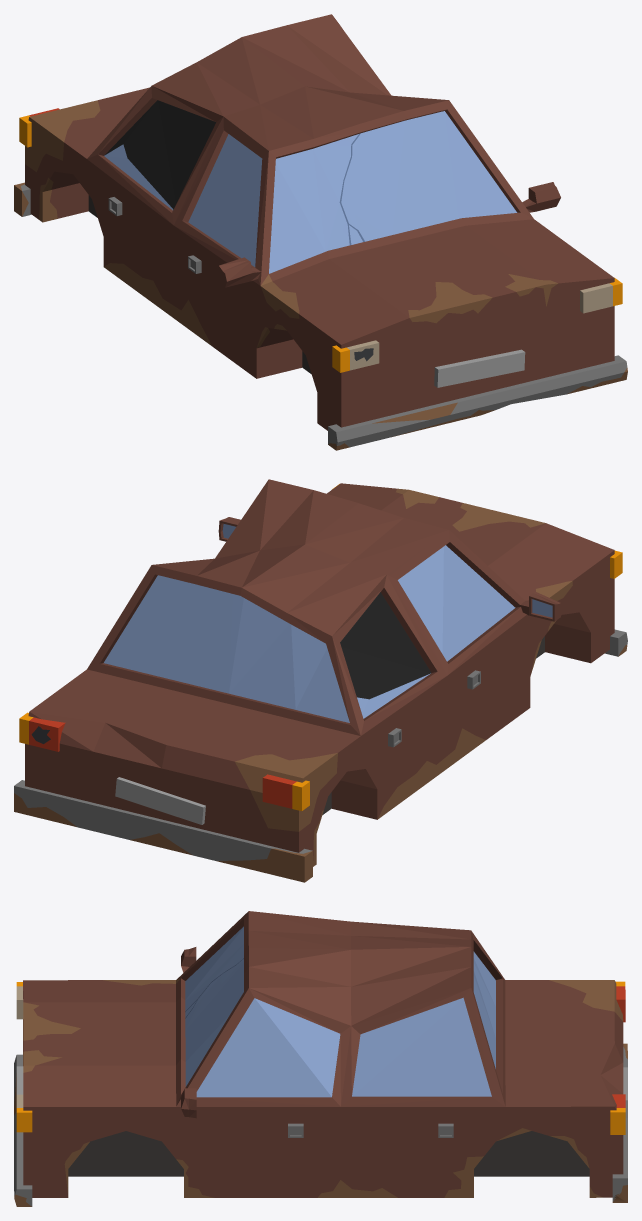
Rendered from OldCar_02.glb.
3 renders of one model, top to bottom at view 1: azimuth 30°, elevation 25°; view 2: azimuth 150°, elevation 25°; view 3: azimuth 270°, elevation 25°, orthographic. The views are drawn at different scales.
Visible parts, largest first — view 1: OldCar_02; view 2: OldCar_02; view 3: OldCar_02.
Boxes of the visible parts, box(x1,y1,x2,y2) form: OldCar_02: box(14, 14, 627, 450); OldCar_02: box(14, 479, 627, 882); OldCar_02: box(14, 911, 627, 1206).
Size of the model in its own units: 1.96 by 1.14 by 3.26.
1 material, 1 textured.
